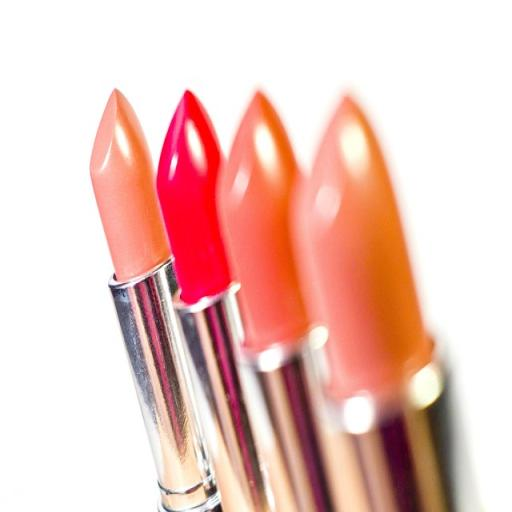lipstick: (292, 99, 453, 511), (91, 90, 221, 511), (157, 92, 274, 510), (218, 93, 332, 511)
